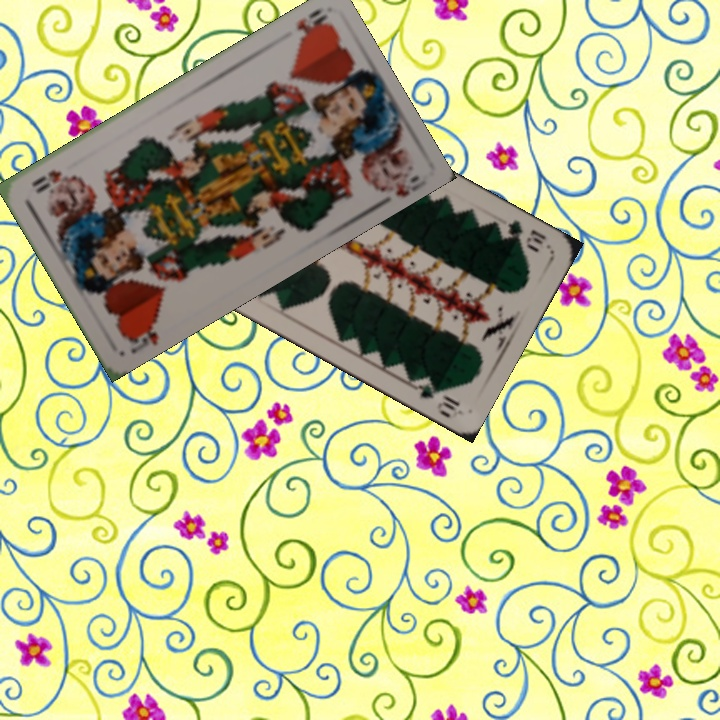G10: (503, 216, 549, 256)
HO: (120, 315, 161, 357), (292, 5, 333, 44)
